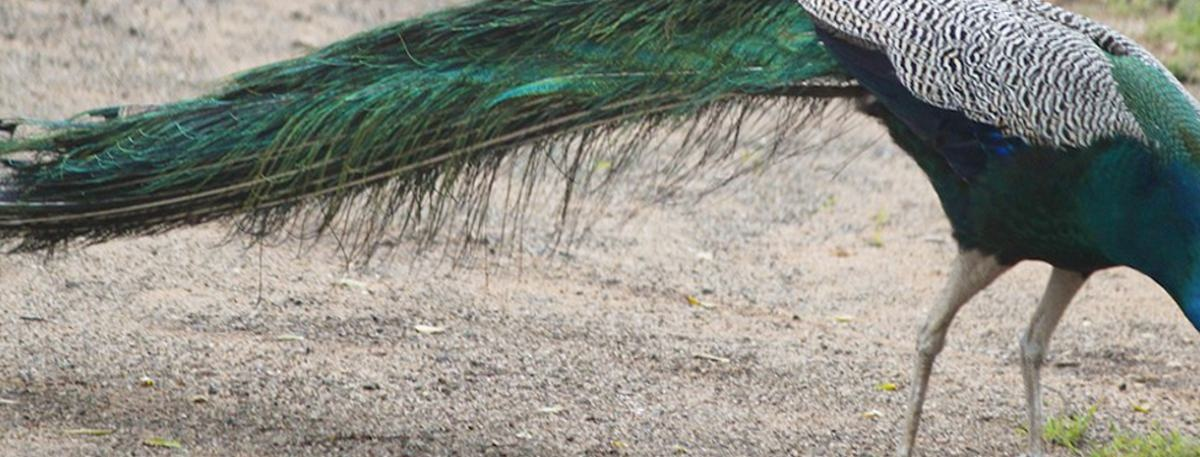peacock: (145, 1, 1200, 282)
